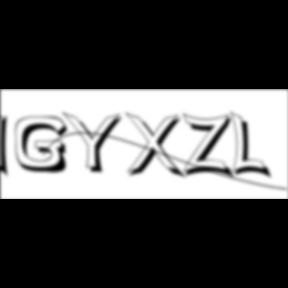G: (16, 116, 74, 176)
L: (231, 110, 275, 182)
X: (125, 112, 189, 182)
Y: (62, 110, 128, 176)
Z: (182, 112, 237, 181)
l: (0, 108, 16, 182)
